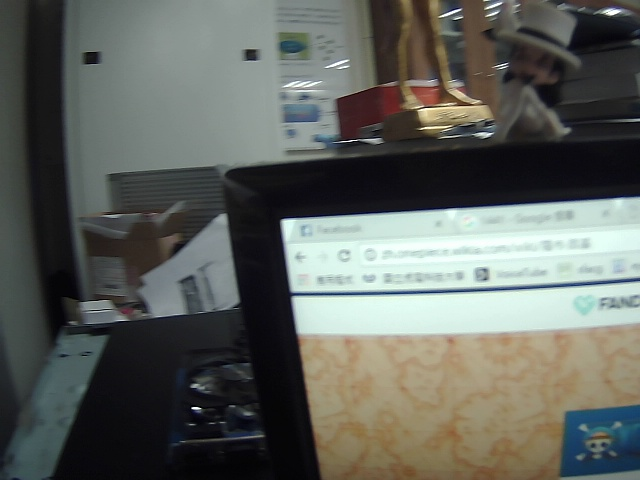lucci: (478, 1, 591, 151)
